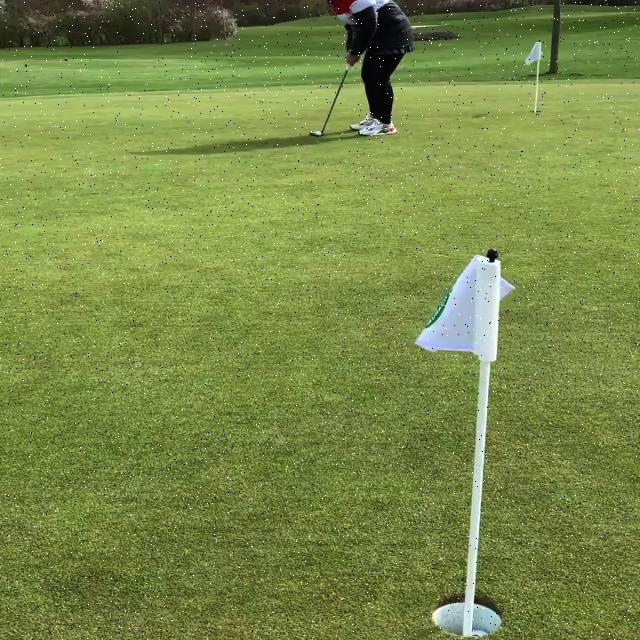golf ball: (315, 131, 322, 136)
golf club-handle: (310, 64, 351, 136)
golf club-head: (309, 131, 323, 136)
